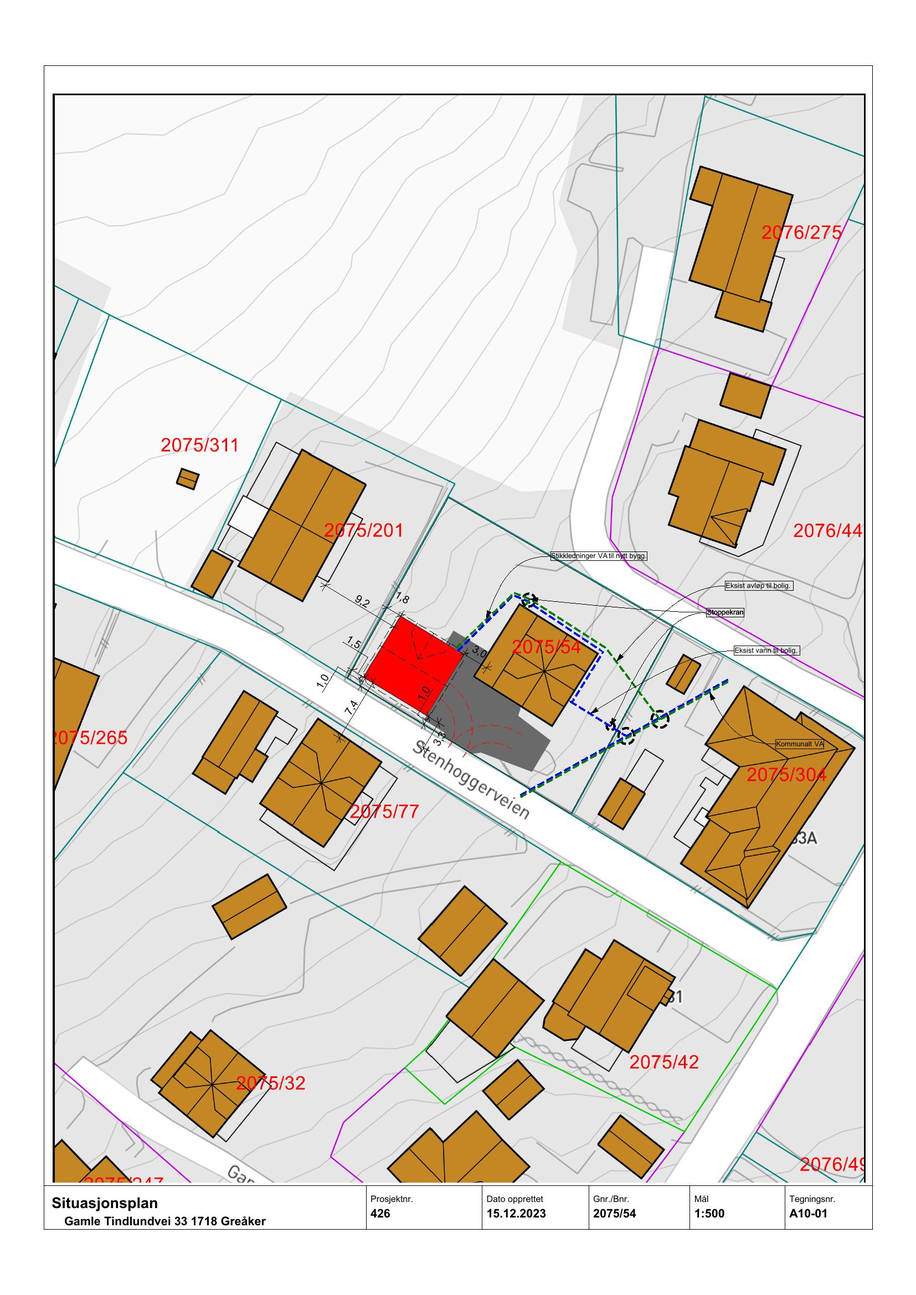situasjonskart: (51, 92, 868, 1187)
